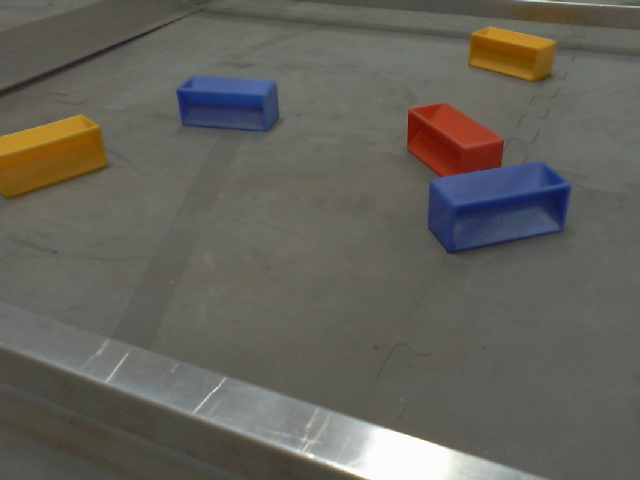BlueSample: (425, 158, 569, 256), (175, 69, 283, 137)
RedSample: (404, 99, 507, 182)
YellowSample: (1, 109, 110, 197), (466, 25, 557, 85)
